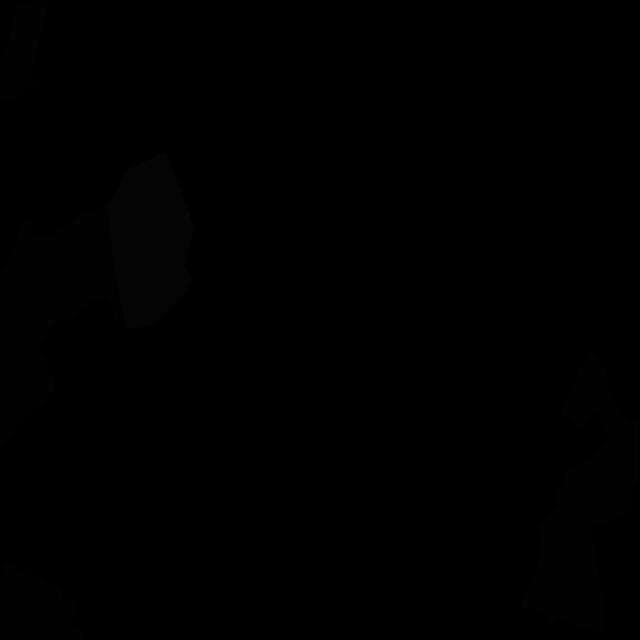cardboard: (521, 347, 640, 634), (48, 202, 122, 326), (0, 285, 55, 449), (0, 219, 62, 348), (0, 563, 83, 640), (0, 0, 48, 103)
soft_plastic: (106, 151, 194, 330)
